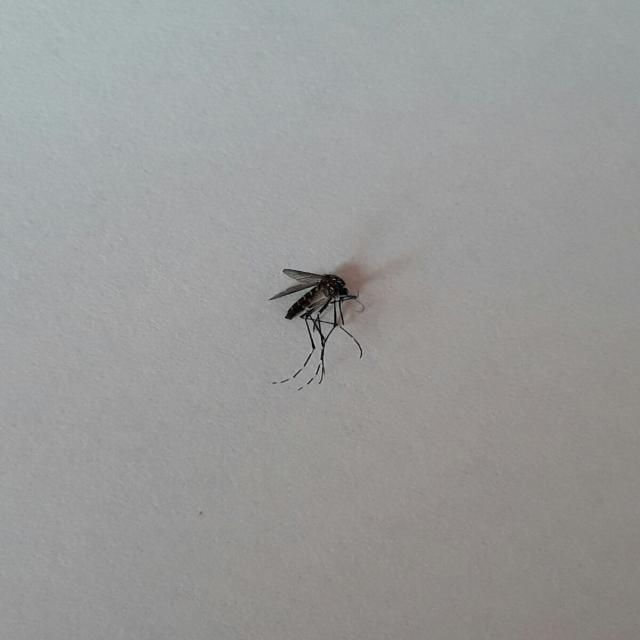albopictus: (263, 261, 373, 394)
